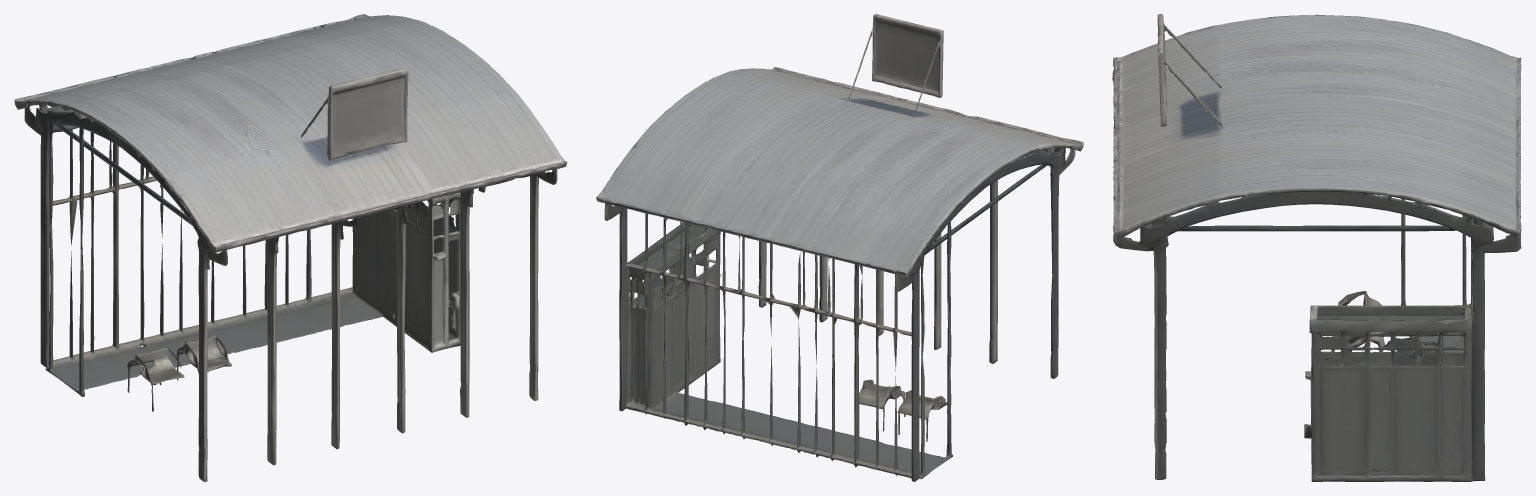
File: rodo_cidade.glb
3 renders of one model, left to right at view 1: azimuth 30°, elevation 25°; view 2: azimuth 150°, elevation 25°; view 3: azimuth 270°, elevation 25°, orthographic. The views are drawn at different scales.
Visible parts, largest first — view 1: tripo_node_8f452e75-d36f-47f7-ab49-3d3f6b0a348b; view 2: tripo_node_8f452e75-d36f-47f7-ab49-3d3f6b0a348b; view 3: tripo_node_8f452e75-d36f-47f7-ab49-3d3f6b0a348b.
Boxes of the visible parts, x1,y1,x2,y2 form: tripo_node_8f452e75-d36f-47f7-ab49-3d3f6b0a348b: [14, 14, 567, 481]; tripo_node_8f452e75-d36f-47f7-ab49-3d3f6b0a348b: [596, 14, 1083, 481]; tripo_node_8f452e75-d36f-47f7-ab49-3d3f6b0a348b: [1112, 14, 1521, 481].
Size of the model in its own units: 1 by 1 by 1.
Materials: 1 (1 with a texture image).
